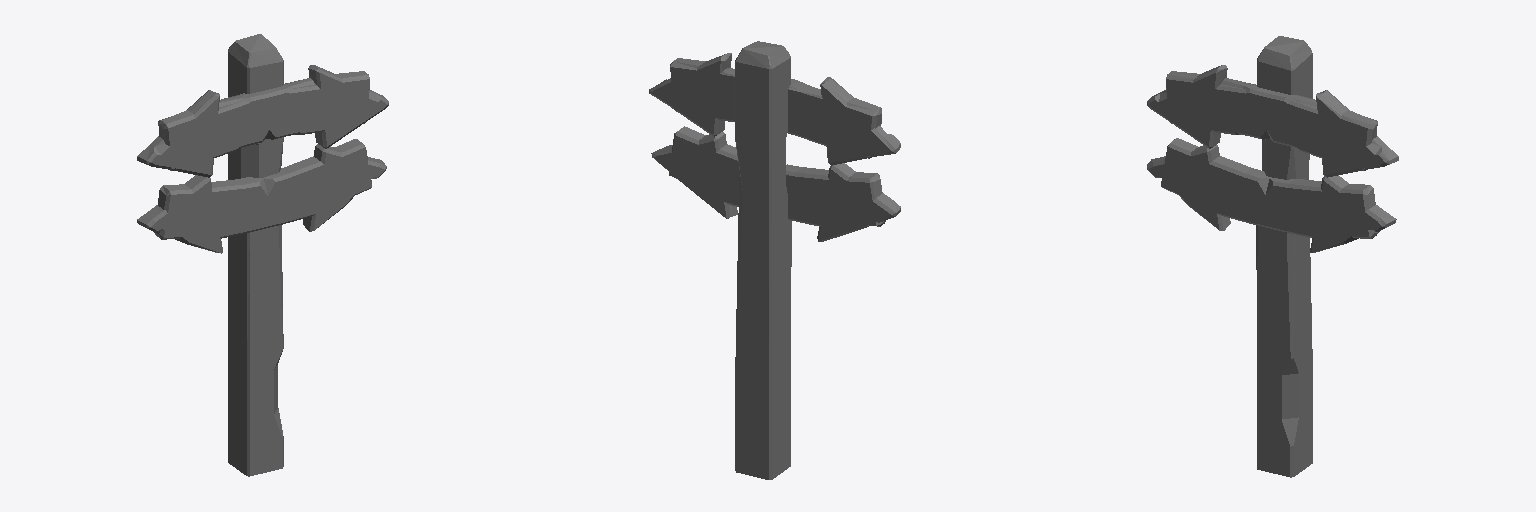
Rendered from Signpost.obj.
The picture shows the model from 3 angles: view 1: azimuth 30°, elevation 25°; view 2: azimuth 150°, elevation 25°; view 3: azimuth 330°, elevation 25°; orthographic projection.
Visible parts, largest first — view 1: signpost, signpost signTopRight, signpost signBottomLeft, signpost signBottomRight, signpost signTopLeft; view 2: signpost, signpost signTopRight, signpost signBottomLeft, signpost signBottomRight, signpost signTopLeft; view 3: signpost, signpost signBottomLeft, signpost signTopLeft, signpost signTopRight, signpost signBottomRight.
Part boxes in pixels (bbox=[...]): signpost: bbox=[228, 34, 283, 476]; signpost signTopRight: bbox=[137, 71, 369, 177]; signpost signBottomLeft: bbox=[137, 139, 371, 253]; signpost signBottomRight: bbox=[154, 144, 386, 239]; signpost signTopLeft: bbox=[158, 65, 388, 170]; signpost: bbox=[735, 41, 791, 479]; signpost signTopRight: bbox=[670, 58, 900, 165]; signpost signBottomLeft: bbox=[669, 126, 900, 241]; signpost signBottomRight: bbox=[651, 132, 885, 226]; signpost signTopLeft: bbox=[649, 53, 881, 158]; signpost: bbox=[1256, 36, 1312, 477]; signpost signBottomLeft: bbox=[1147, 145, 1378, 238]; signpost signTopLeft: bbox=[1166, 71, 1398, 177]; signpost signTopRight: bbox=[1147, 65, 1377, 170]; signpost signBottomRight: bbox=[1161, 138, 1396, 252].
Size of the model in its own units: 3.81 by 6.21 by 0.7093.